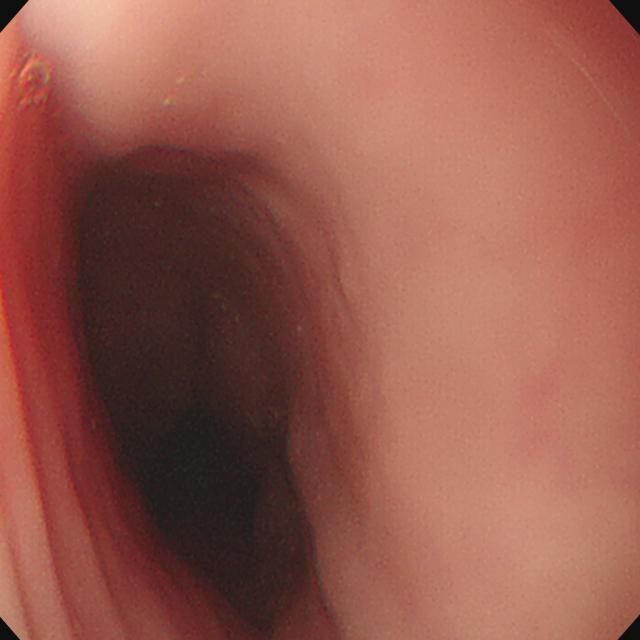E: (162, 447, 259, 553)
